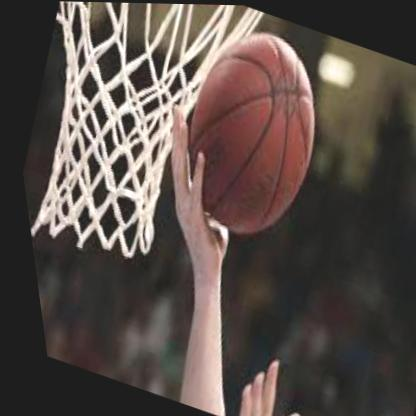basketball: (147, 14, 353, 255)
